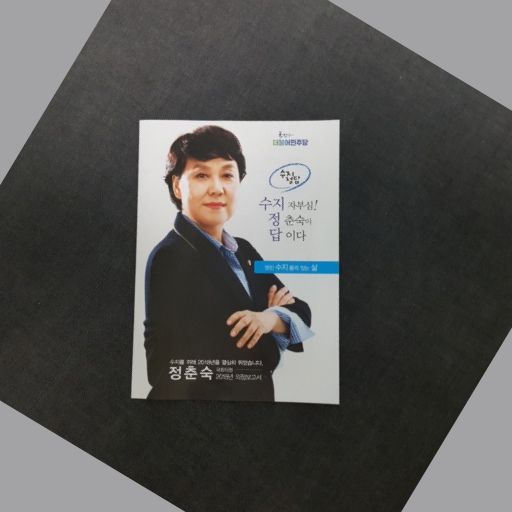Paper_2: (132, 114, 347, 421)
